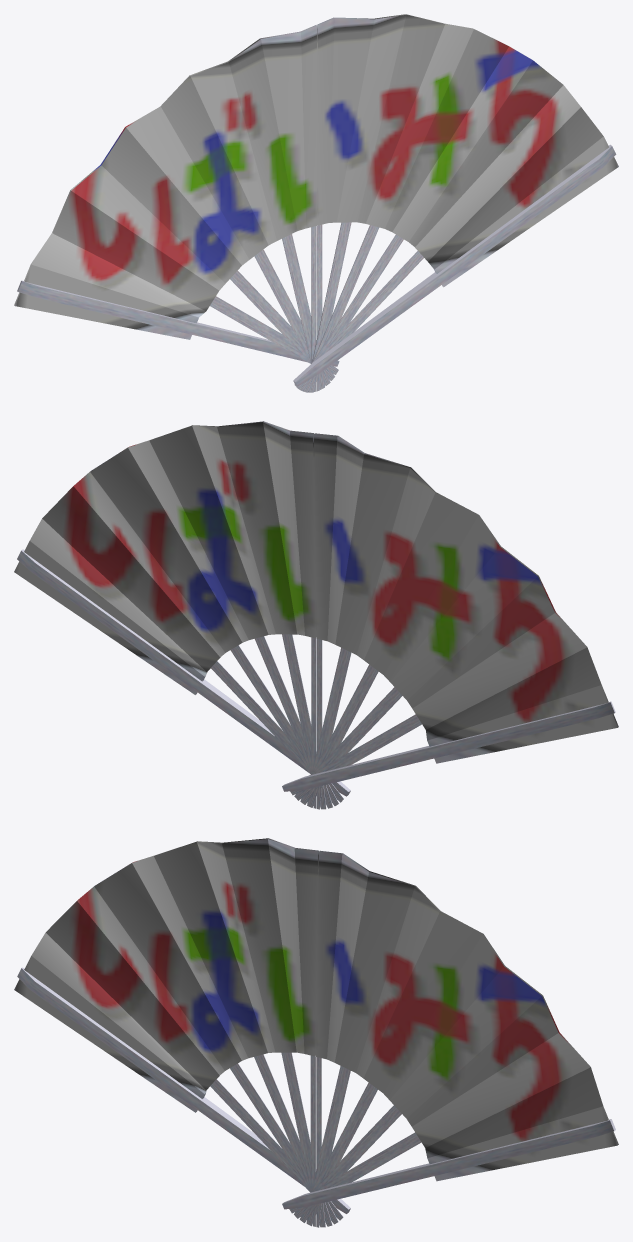
File: delete.ico.obj
3 views of the same model, one above another, from view 1: azimuth 30°, elevation 25°; view 2: azimuth 150°, elevation 25°; view 3: azimuth 330°, elevation 25° (orthographic). The views are drawn at different scales.
Bounding box in the file's own units: 4.79 × 2.81 × 0.2039.
